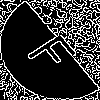F: (25, 25, 87, 77)
